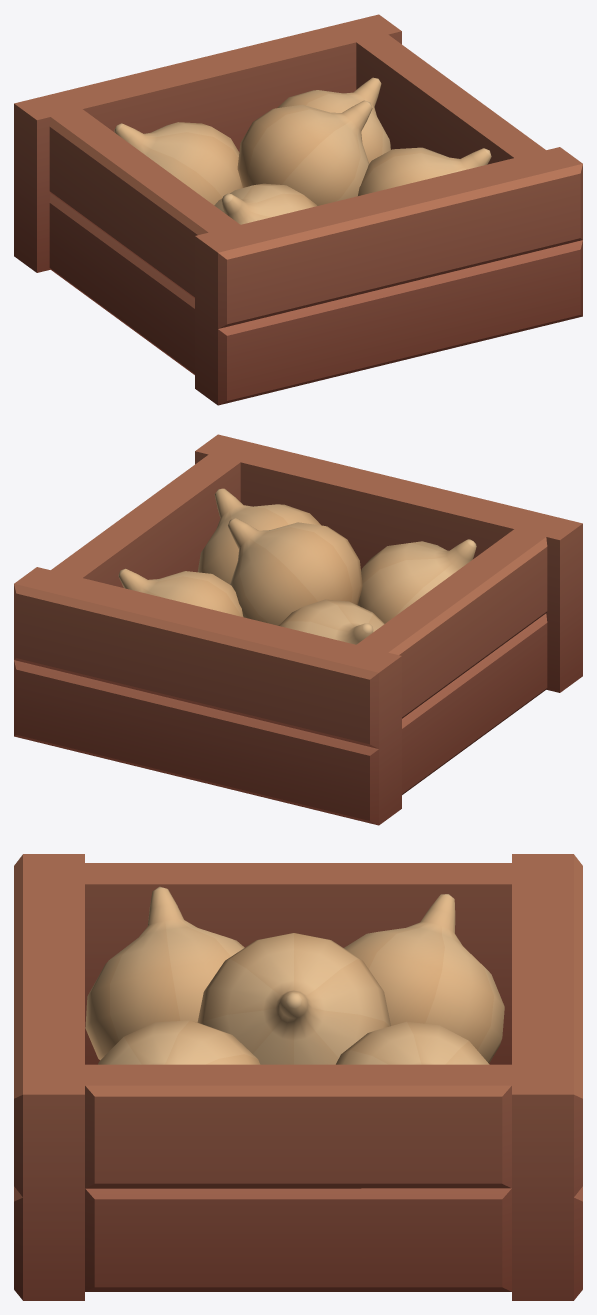
File: kay-crate_onions.glb
3 views of the same model, one above another, from view 1: azimuth 30°, elevation 25°; view 2: azimuth 150°, elevation 25°; view 3: azimuth 270°, elevation 25° (orthographic). The views are drawn at different scales.
Parts seen in each view (by area): view 1: crate_onions; view 2: crate_onions; view 3: crate_onions.
Boxes of the visible parts, x1,y1,x2,y2 form: crate_onions: (14, 14, 582, 405); crate_onions: (14, 434, 582, 825); crate_onions: (14, 854, 582, 1300).
Size of the model in its own units: 0.6 by 0.277 by 0.6.
1 material, 1 textured.
